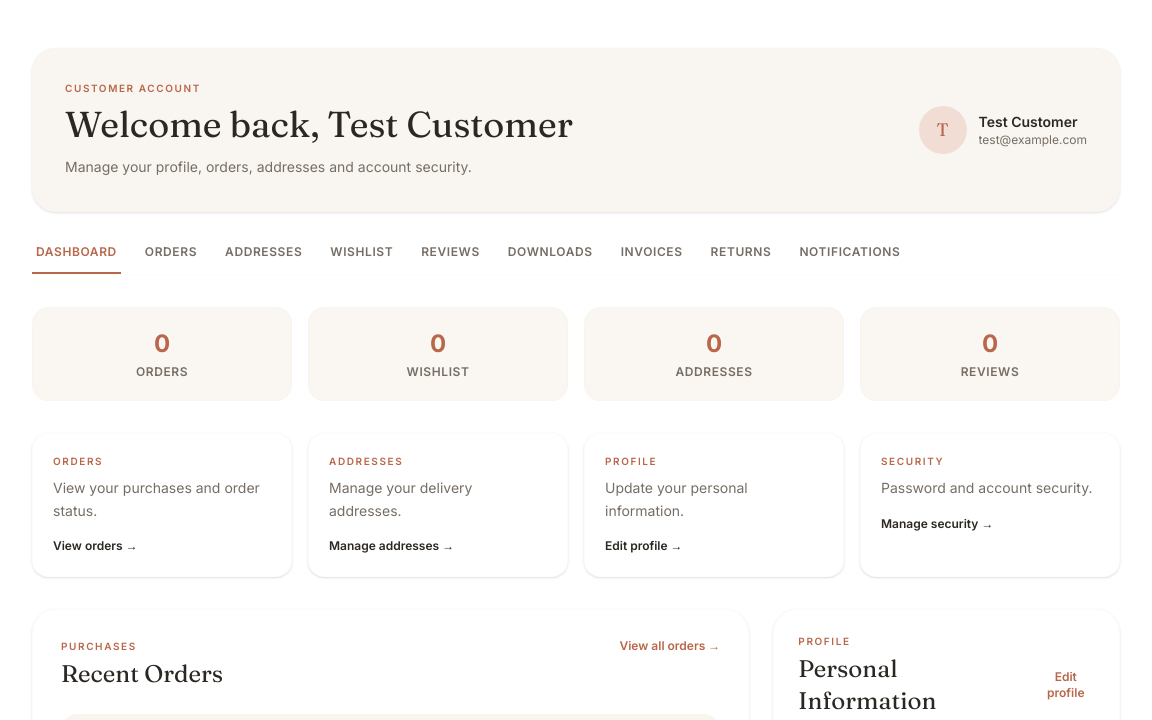
Scenario: profile › updates the customer context displayed in the welcome area after saving
The image size is (1152, 720).
Expected: the heading "Welcome back, Test Customer" is shown, [65, 104, 573, 144]
Click the button "Edit profile".
click(1066, 685)  # box [1037, 669, 1095, 701]
(page scrolled)
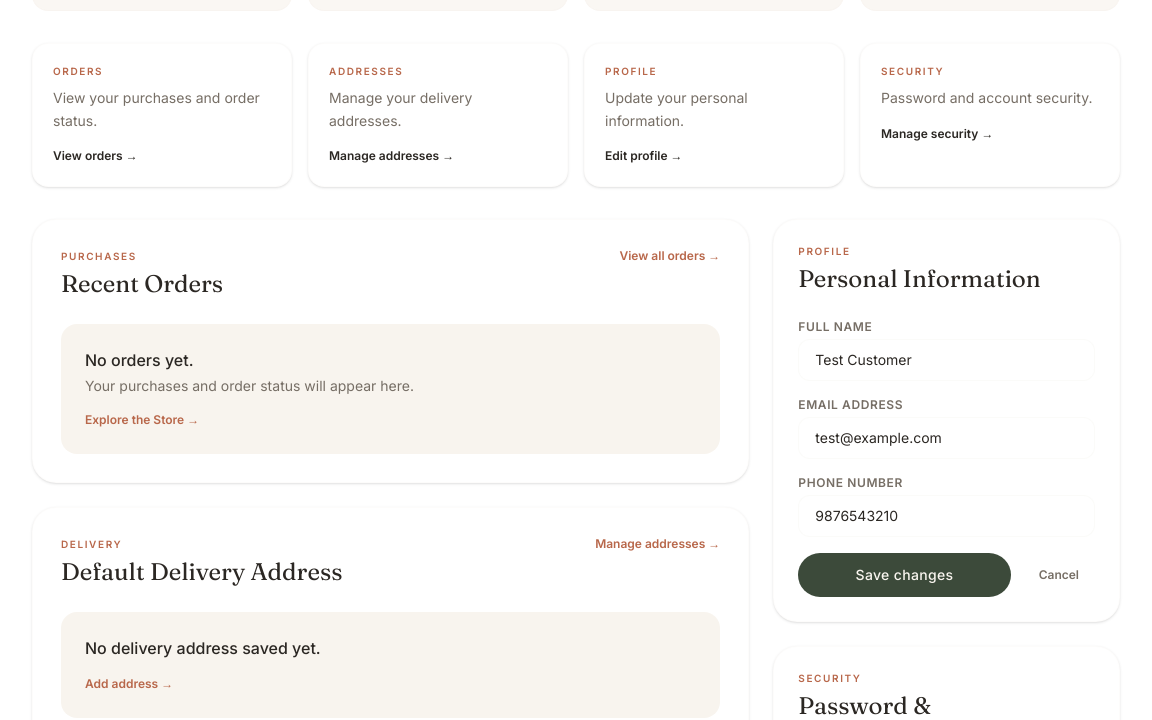
Replace the text in the field labelled "Full Name" with "Updated Customer" at (947, 360), box [798, 339, 1095, 381]
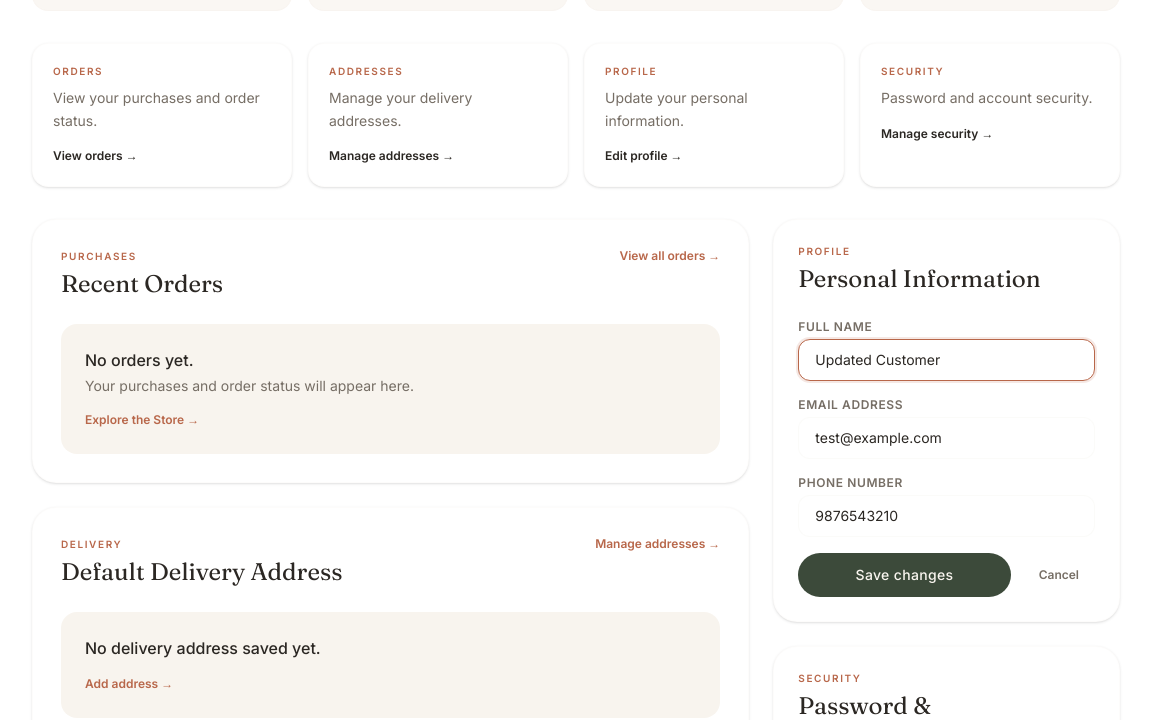
Click the button "Save changes".
click(904, 575)  # box [798, 553, 1011, 597]
(page scrolled)
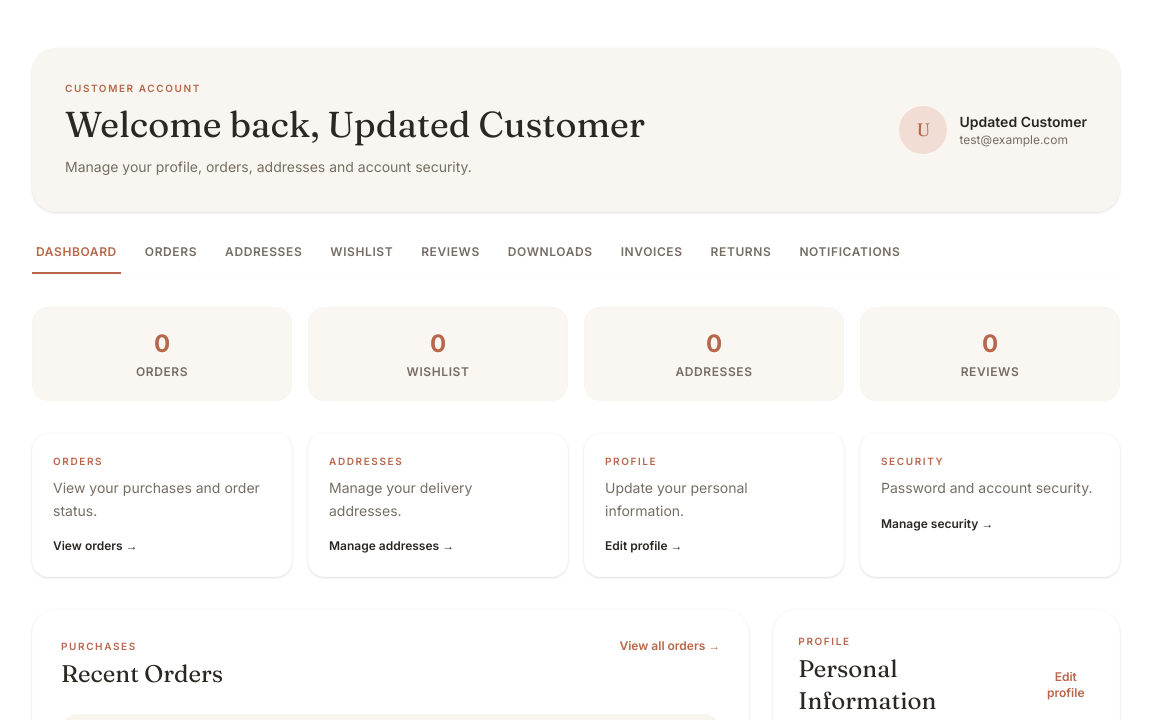
Expected: the heading "Welcome back, Updated Customer" is shown, [65, 104, 645, 144]
